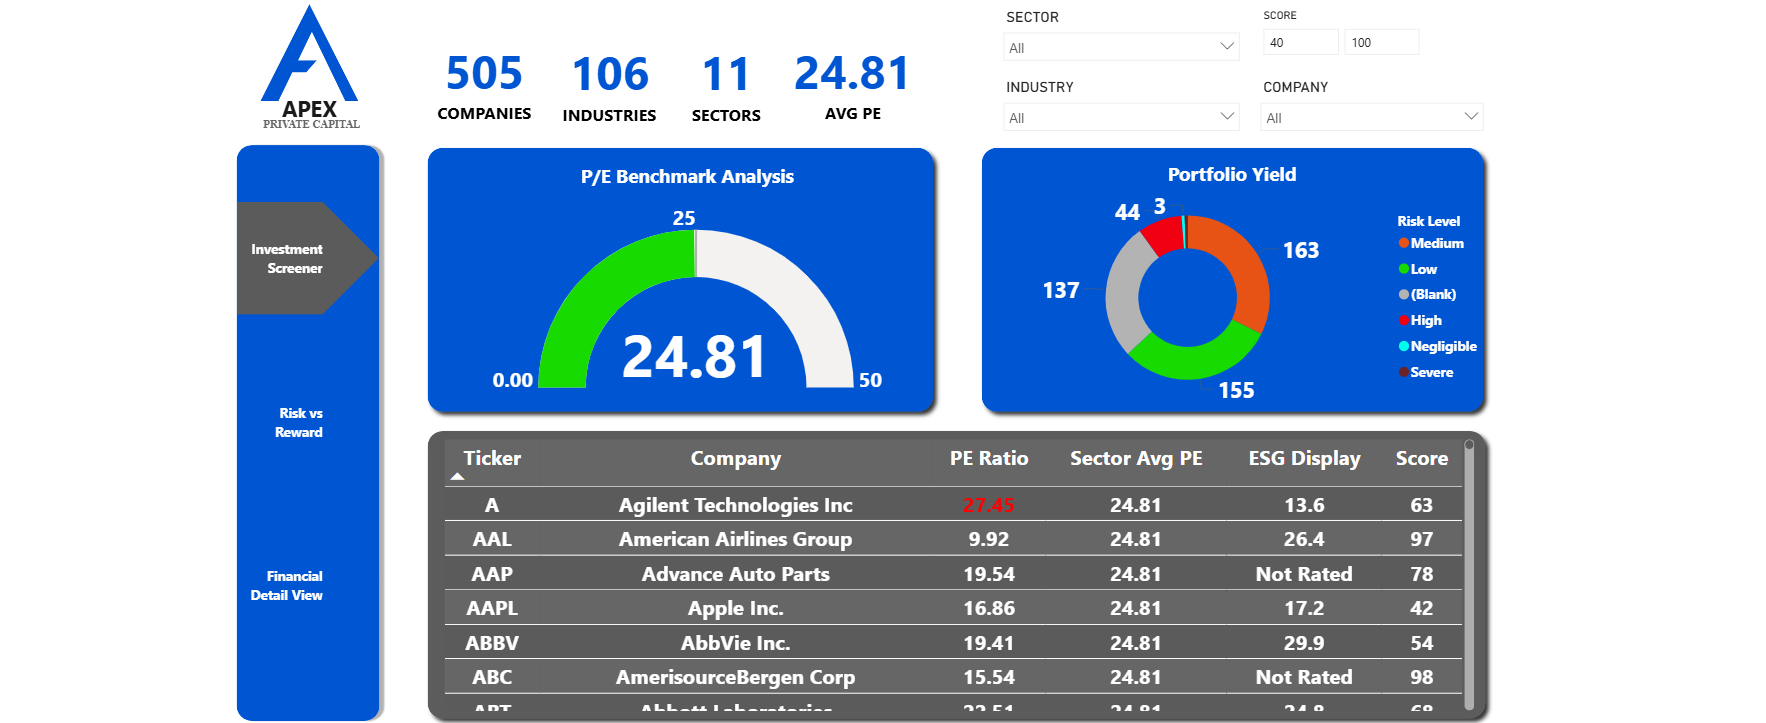

The dashboard page shown, as its layout file describes it:
{"tool":"powerbi","page":{"name":"Investment Screener","canvas":[1280,720],"ordinal":0},"visuals":[{"type":"shape","box":[186,140,516,278],"z":0},{"type":"shape","box":[732,140,512,278],"z":1000},{"type":"shape","box":[185.6,418.9,1060,301.1],"z":2000},{"type":"slicer","fields":{"Values":["wealth_management_dss investment_universe.sector"]},"box":[751.4,7.1,252.9,61.4],"z":3000},{"type":"slicer","fields":{"Values":["wealth_management_dss investment_universe.industry"]},"box":[751.2,75.6,253.1,61.2],"z":4000},{"type":"slicer","fields":{"Values":["wealth_management_dss investment_universe.proprietary_score"]},"box":[1004.4,6.9,240,60],"z":5000},{"type":"card","title":"COMPANIES","fields":{"Values":["Count(wealth_management_dss investment_universe.symbol)"]},"box":[185,31.7,130,103.3],"z":6000},{"type":"tableEx","fields":{"Values":["wealth_management_dss investment_universe.symbol","wealth_management_dss investment_universe.company_name","wealth_management_dss investment_universe.pe_ratio","wealth_management_dss investment_universe.Sector Avg PE","wealth_management_dss investment_universe.ESG Display","wealth_management_dss investment_universe.proprietary_score"]},"box":[205.6,431.1,1024.4,276.7],"z":7000},{"type":"shape","box":[0,140,153.8,580],"z":8000},{"type":"shape","box":[29.5,6.3,96.8,95.8],"z":9000},{"type":"shape","box":[47.6,33.8,66.5,68.8],"z":10000},{"type":"shape","box":[50.6,62.1,35.6,12.1],"z":11000},{"type":"textbox","box":[29.4,90,96.8,39.7],"z":12000},{"type":"textbox","box":[23,110,115.2,29.6],"z":13000},{"type":"slicer","fields":{"Values":["wealth_management_dss investment_universe.company_name"]},"box":[1004.4,75.6,240,60],"z":14000},{"type":"card","title":"COMPANIES","fields":{"Values":["Count(wealth_management_dss investment_universe.industry)"]},"box":[315,31.9,116.2,103.1],"z":15000},{"type":"card","title":"COMPANIES","fields":{"Values":["Count(wealth_management_dss investment_universe.sector)"]},"box":[431.2,31.9,116.2,103.1],"z":16000},{"type":"card","title":"COMPANIES","fields":{"Values":["wealth_management_dss investment_universe.Sector Avg PE"]},"box":[548.3,31.7,130,103.3],"z":17000},{"type":"gauge","title":"P/E Benchmark Analysis","fields":{"Y":["Avg(wealth_management_dss investment_universe.pe_ratio)"],"MaxValue":["wealth_management_dss investment_universe.Max_PE_Ratio"],"TargetValue":["wealth_management_dss investment_universe.Target_PE_Ratio"]},"box":[224,162,454,232],"z":18000},{"type":"donutChart","title":"Portfolio Yield","fields":{"Category":["wealth_management_dss investment_universe.esg_risk_level"],"Y":["CountNonNull(wealth_management_dss investment_universe.symbol)"]},"box":[731.7,161.7,511.7,245],"z":19000},{"type":"pageNavigator","box":[6.9,201.5,140.8,433.8],"z":20000}]}

Visuals, with their boxes on the page's 1280x720 design canvas (x1, y1, x2, y2). These are canvas units, not pixel positions in the 1766x723 screenshot, which may show the page scaled, cropped or inside an application window:
shape: x1=186 y1=140 x2=702 y2=418
shape: x1=732 y1=140 x2=1244 y2=418
shape: x1=186 y1=419 x2=1246 y2=720
slicer - wealth_management_dss investment_universe.sector: x1=751 y1=7 x2=1004 y2=68
slicer - wealth_management_dss investment_universe.industry: x1=751 y1=76 x2=1004 y2=137
slicer - wealth_management_dss investment_universe.proprietary_score: x1=1004 y1=7 x2=1244 y2=67
"COMPANIES" card: x1=185 y1=32 x2=315 y2=135
tableEx - wealth_management_dss investment_universe.symbol x wealth_management_dss investment_universe.company_name: x1=206 y1=431 x2=1230 y2=708
shape: x1=0 y1=140 x2=154 y2=720
shape: x1=30 y1=6 x2=126 y2=102
shape: x1=48 y1=34 x2=114 y2=103
shape: x1=51 y1=62 x2=86 y2=74
textbox: x1=29 y1=90 x2=126 y2=130
textbox: x1=23 y1=110 x2=138 y2=140
slicer - wealth_management_dss investment_universe.company_name: x1=1004 y1=76 x2=1244 y2=136
"COMPANIES" card: x1=315 y1=32 x2=431 y2=135
"COMPANIES" card: x1=431 y1=32 x2=547 y2=135
"COMPANIES" card: x1=548 y1=32 x2=678 y2=135
"P/E Benchmark Analysis" gauge: x1=224 y1=162 x2=678 y2=394
"Portfolio Yield" donutChart: x1=732 y1=162 x2=1243 y2=407
pageNavigator: x1=7 y1=202 x2=148 y2=635
